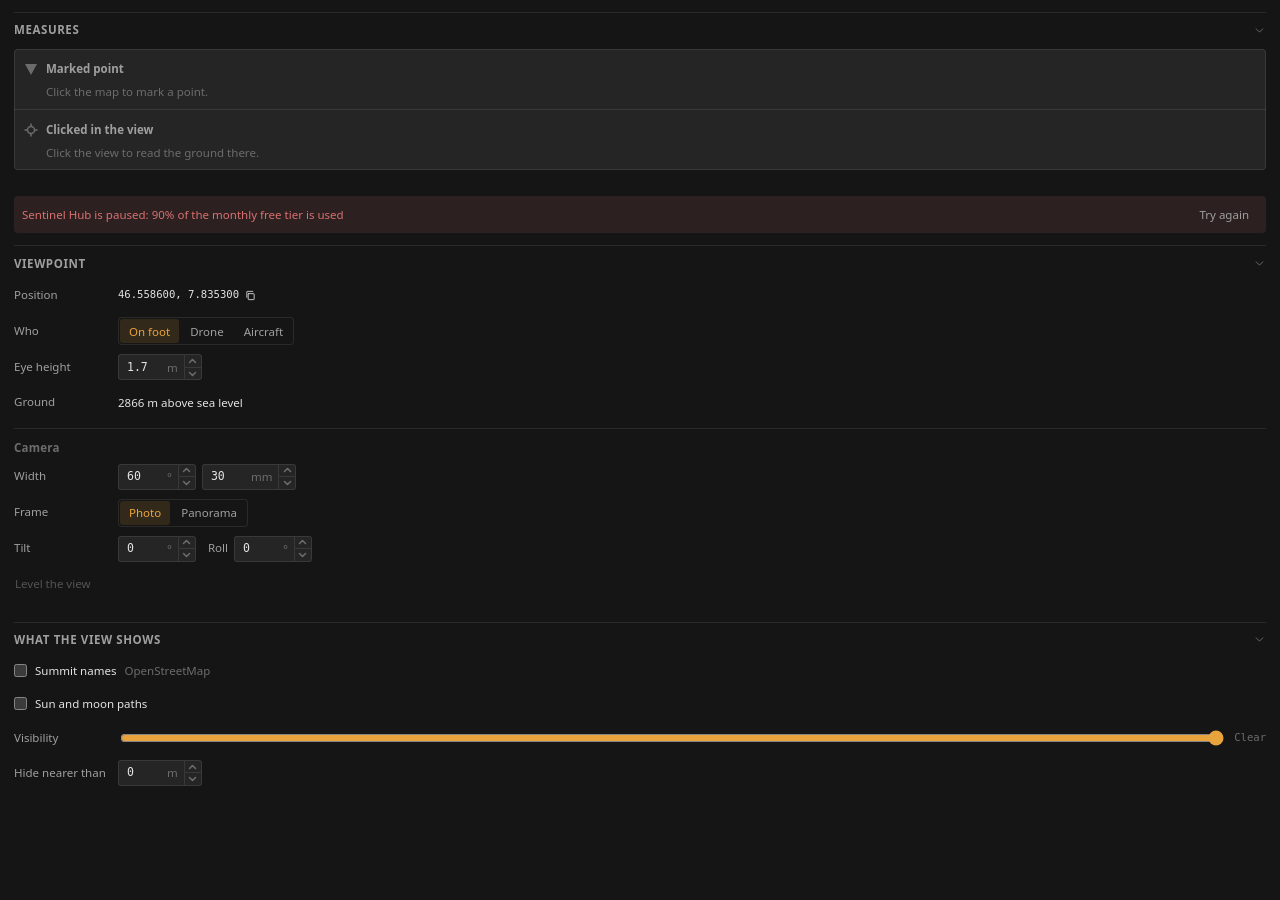
the Horizon inspector › says when the imagery was refused, and asks for it again
This screenshot has width=1280, height=900.
Expected: the message "Sentinel Hub is paused: 90% of the monthly free tier is used Try again" is shown, [14,196,1266,233]
Click the button "Try again". click: click(1224, 215)
box: [1190,202,1258,227]
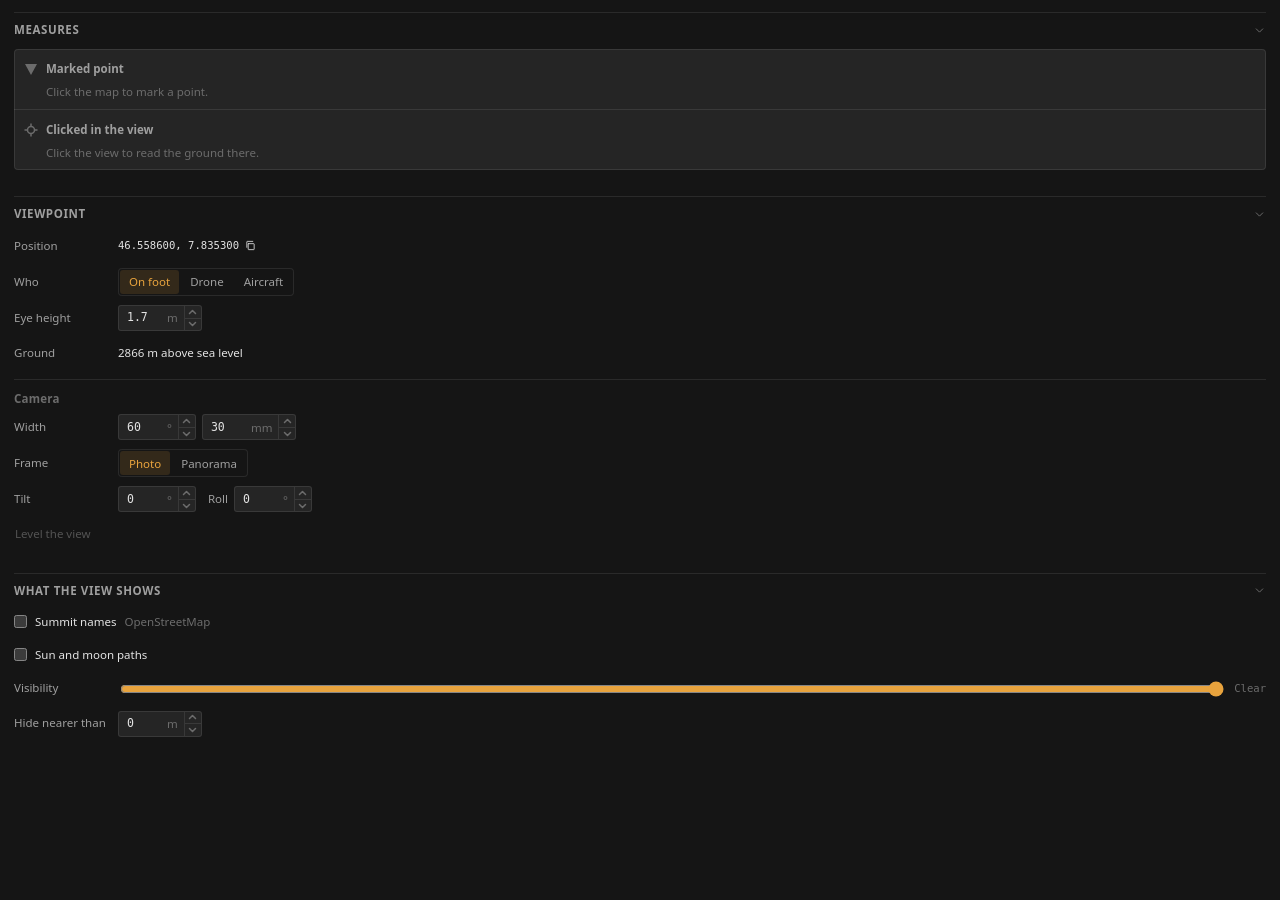
Now the message "Sentinel Hub is paused: 90% of the monthly free tier is used Try again" is gone
